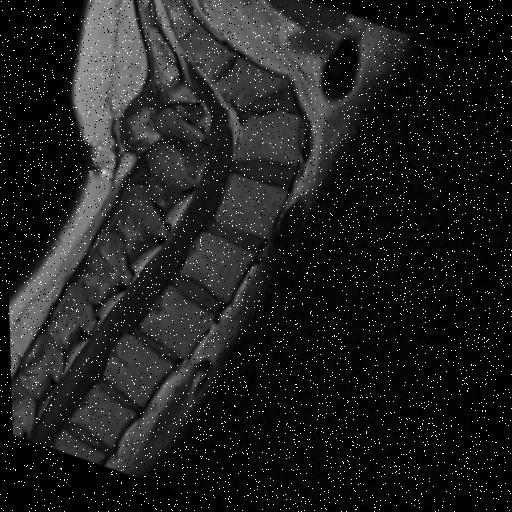L1: (99, 333, 170, 406)
L2: (138, 285, 212, 358)
L3: (179, 232, 253, 302)
L4: (214, 173, 286, 239)
L5: (234, 109, 303, 164)
S1: (216, 56, 288, 112)
